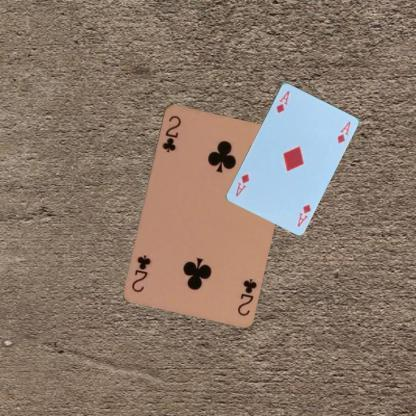2c: (235, 275, 258, 318), (160, 112, 182, 154)
Ad: (273, 88, 291, 115), (294, 201, 312, 228)
